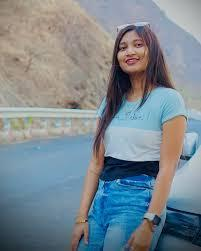Human: (71, 23, 183, 251)
